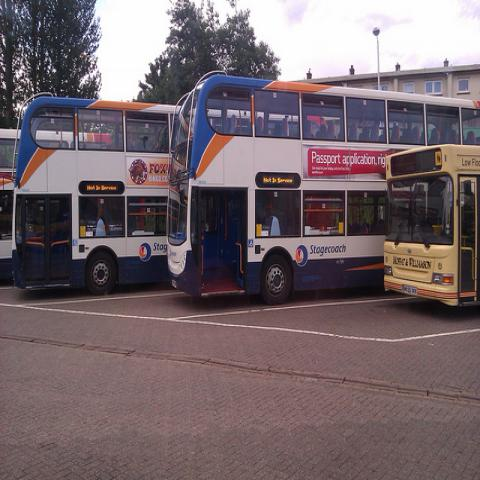bus: (165, 71, 479, 306), (9, 91, 176, 296), (383, 144, 479, 309), (0, 128, 17, 285)
